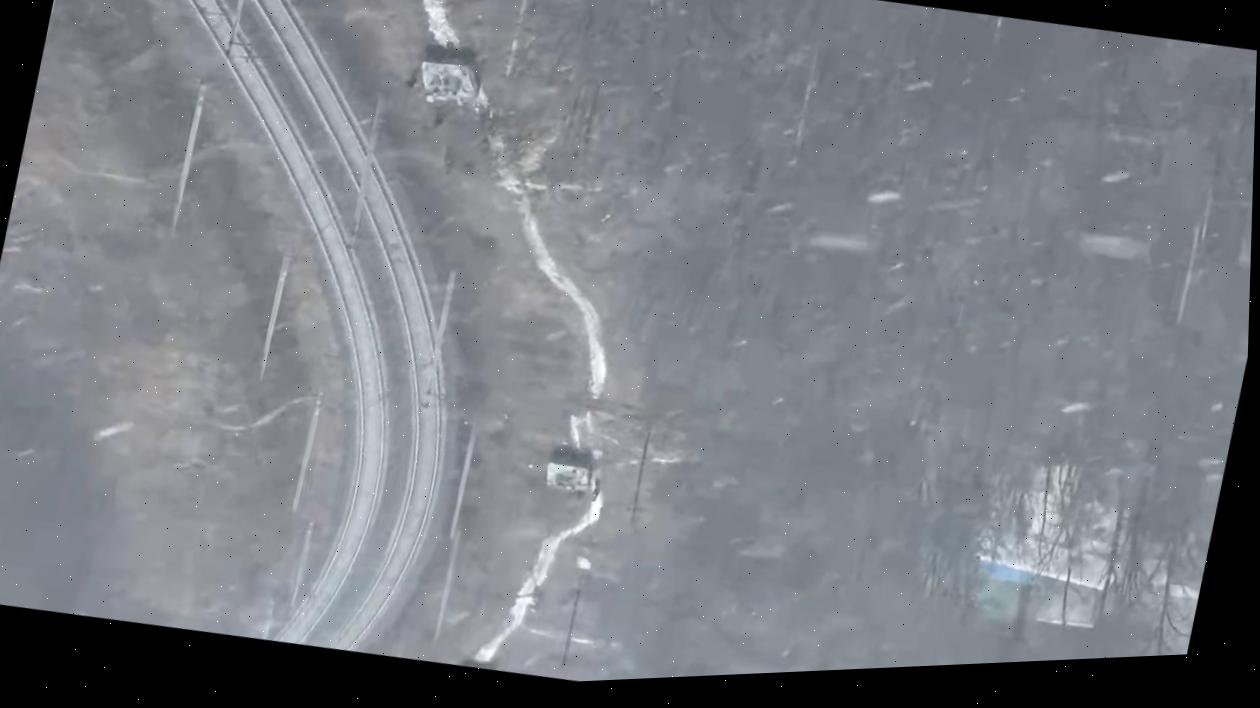person: (419, 100, 450, 135), (438, 137, 459, 178), (399, 58, 420, 94), (588, 475, 603, 504), (572, 489, 584, 503)
tank: (414, 43, 486, 105), (541, 448, 595, 495)
